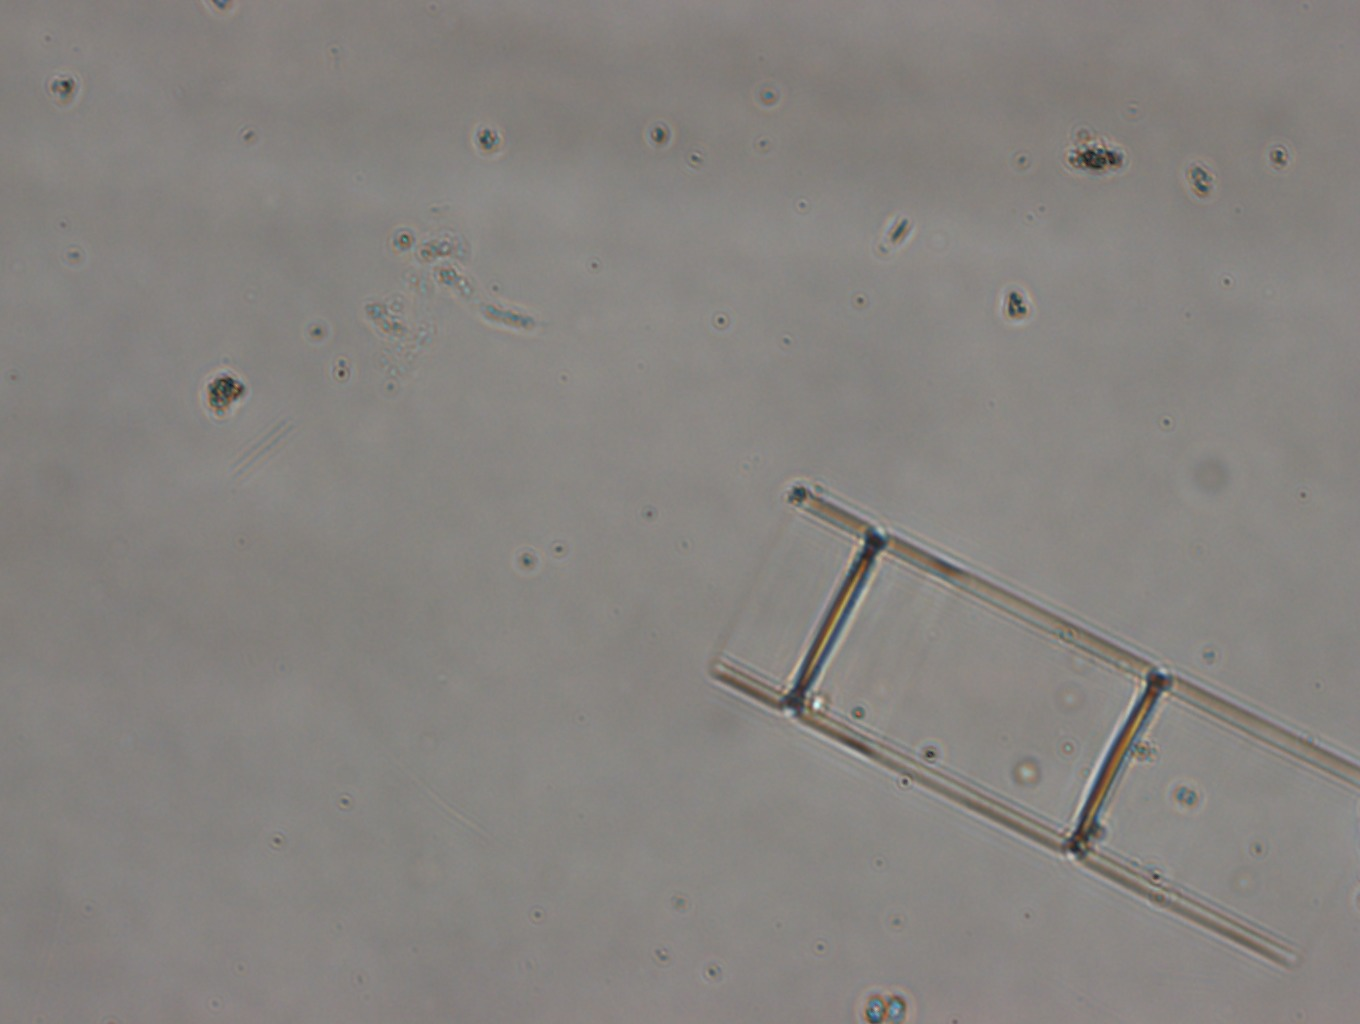guinardia flaccida: (708, 478, 1360, 967)
